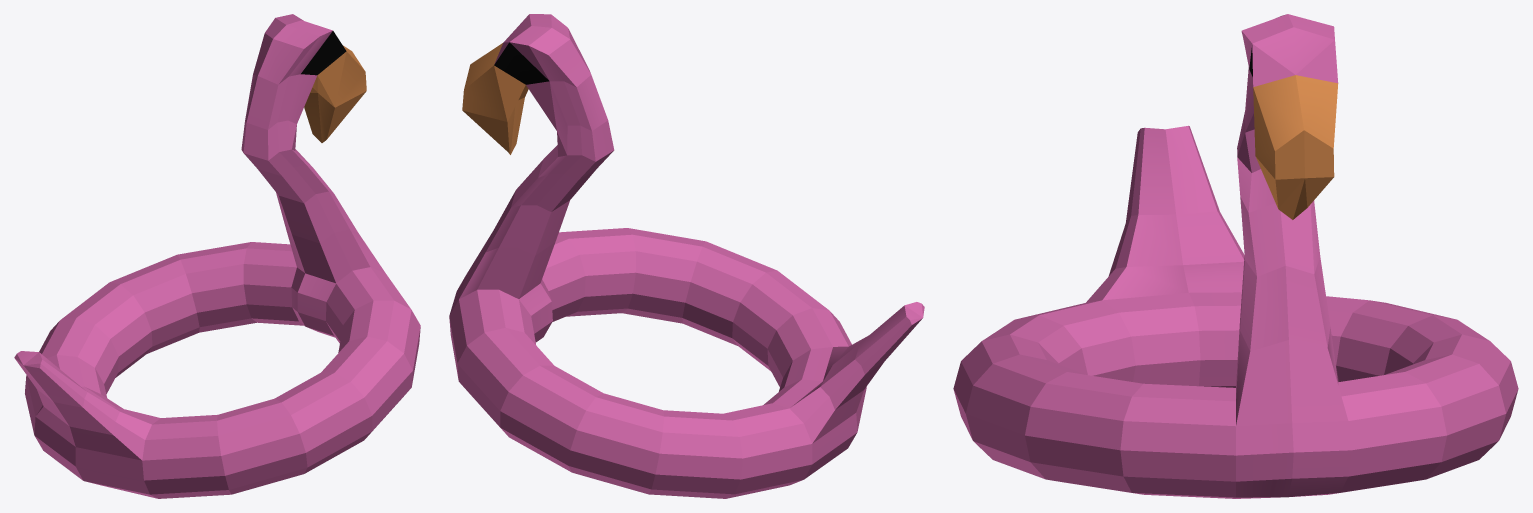
Rendered from Flotador1.fbx.
The picture shows the model from 3 angles, left to right: view 1: azimuth 30°, elevation 25°; view 2: azimuth 150°, elevation 25°; view 3: azimuth 270°, elevation 25°; orthographic projection. The views are drawn at different scales.
Visible parts, largest first — view 1: FLOAT1; view 2: FLOAT1; view 3: FLOAT1.
Boxes of the visible parts, box(x1,y1,x2,y2) form: FLOAT1: box(14, 14, 420, 498); FLOAT1: box(449, 14, 924, 498); FLOAT1: box(953, 14, 1518, 498).
Bounding box in the file's own units: 0.7913 × 0.7225 × 0.6963.
